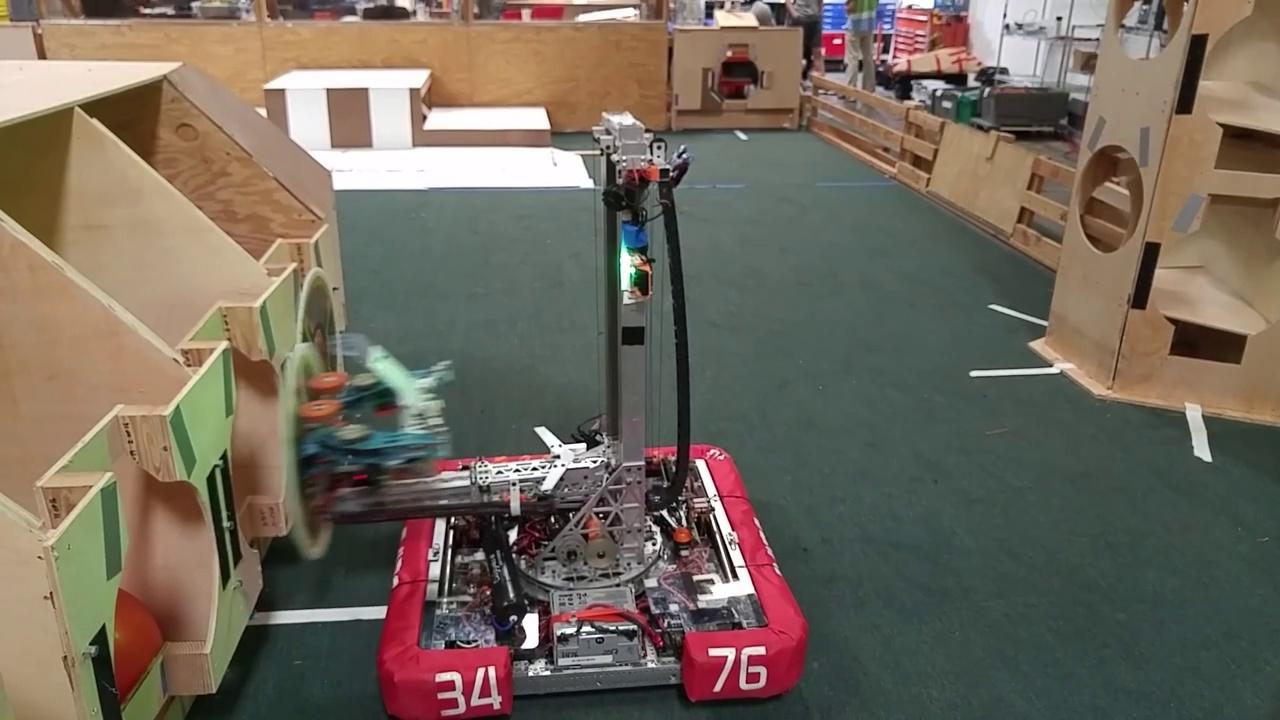robot: (286, 104, 815, 720)
